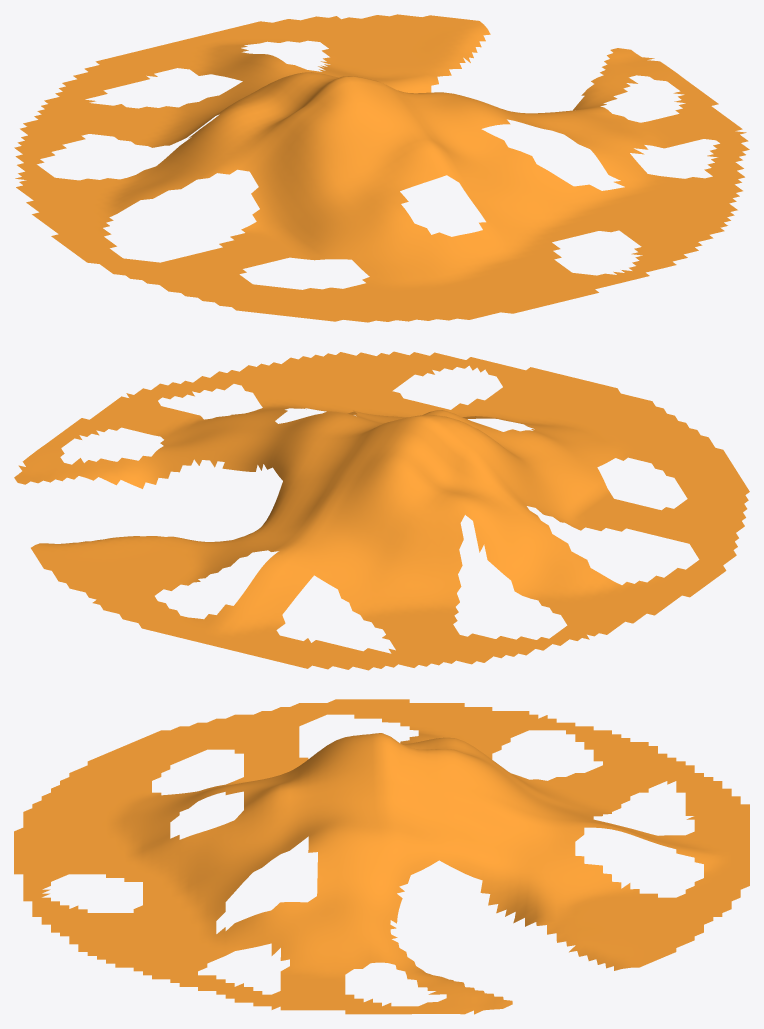
File: to-grow.glb
3 renders of one model, top to bottom at view 1: azimuth 30°, elevation 25°; view 2: azimuth 150°, elevation 25°; view 3: azimuth 270°, elevation 25°, orthographic.
Visible parts, largest first — view 1: for-grass; view 2: for-grass; view 3: for-grass.
Part boxes in pixels (x1=…): for-grass: x1=14, y1=14, x2=749, y2=322; for-grass: x1=14, y1=351, x2=749, y2=670; for-grass: x1=14, y1=699, x2=749, y2=1014.
Size of the model in its own units: 21.69 by 3.81 by 21.42.
